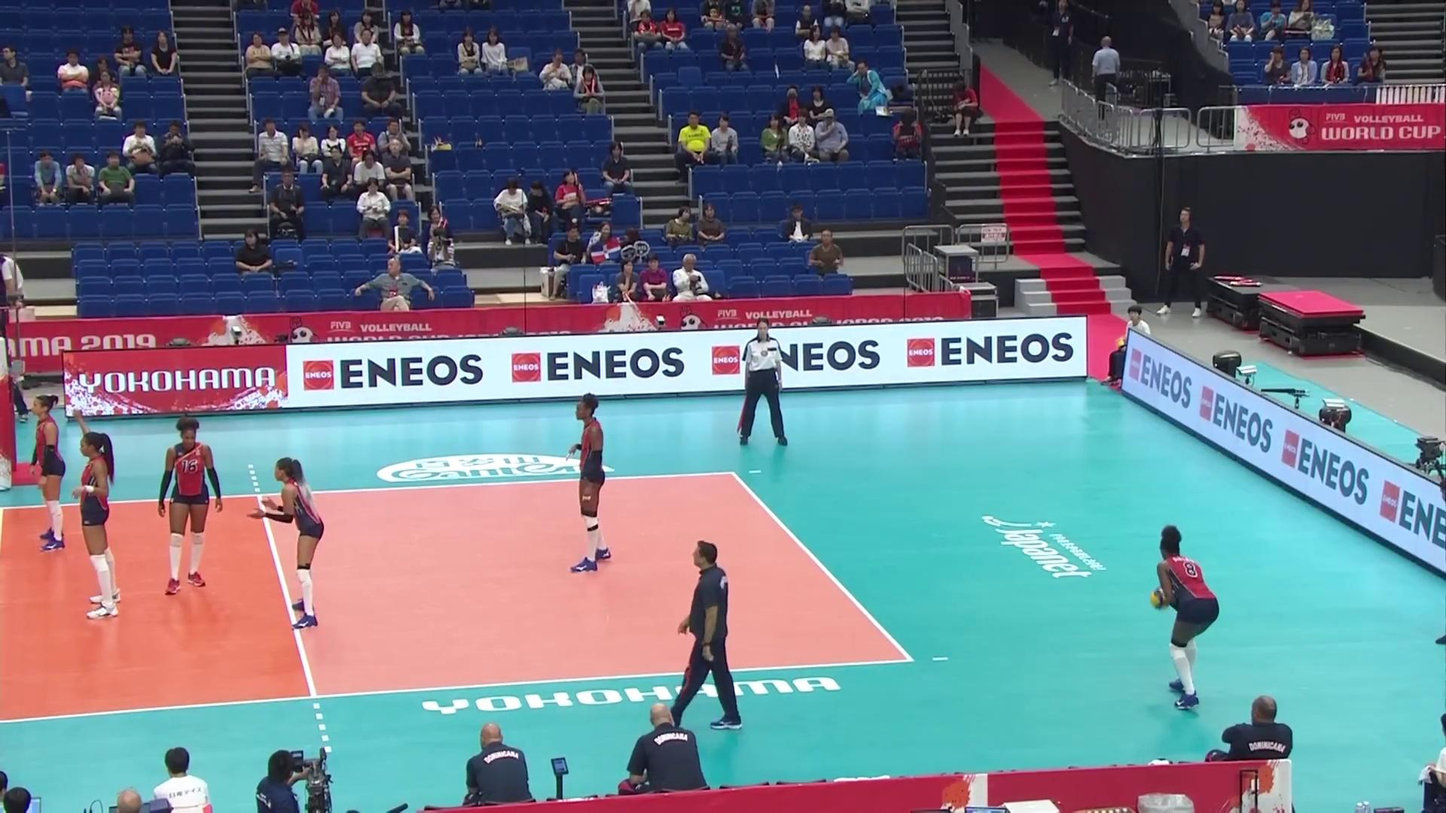player: (1147, 535, 1221, 710), (257, 462, 333, 632), (153, 416, 224, 596), (73, 434, 127, 621), (566, 395, 614, 574), (26, 394, 70, 554)
refree: (735, 319, 790, 450)
